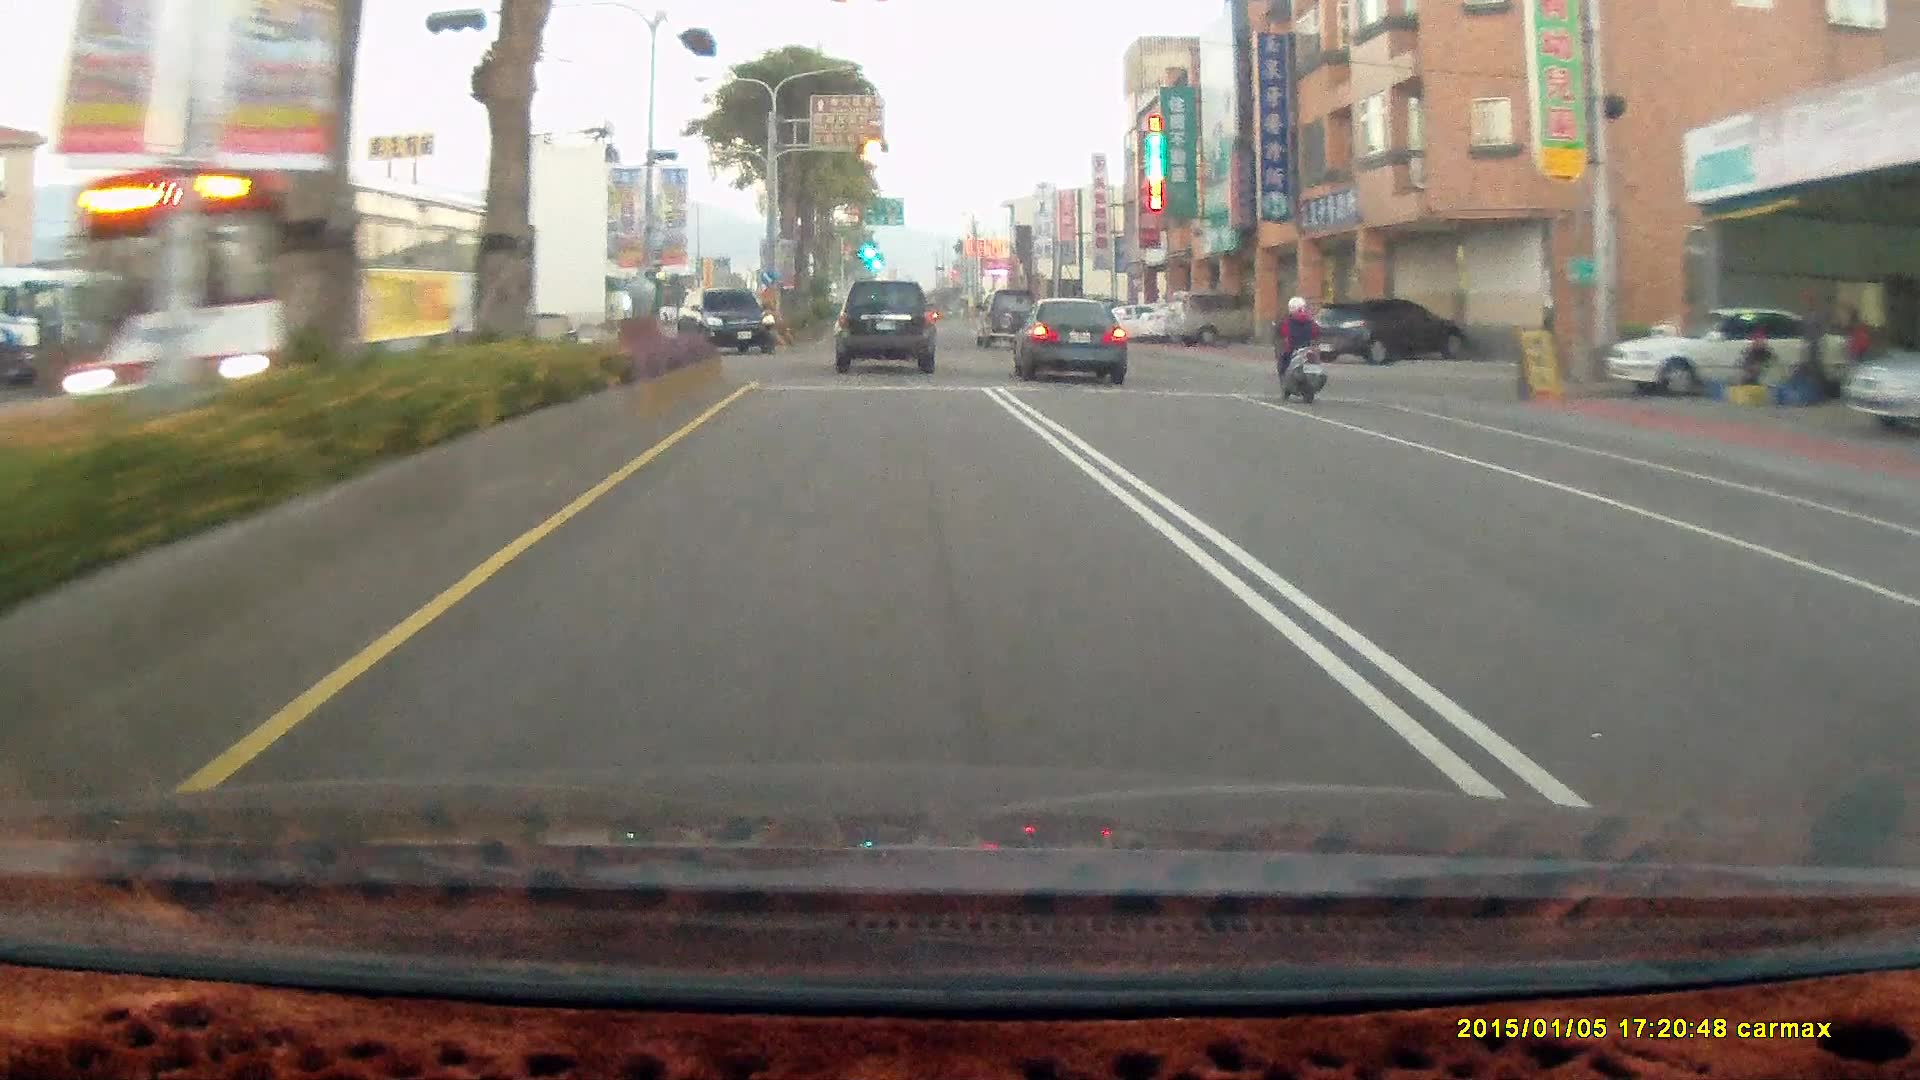pedestrian: (1801, 292, 1831, 406), (1844, 307, 1877, 410), (1742, 331, 1774, 402)
rider: (1257, 284, 1341, 416), (1268, 296, 1326, 405)
vehicle: (55, 163, 535, 432), (98, 154, 521, 411), (1606, 306, 1857, 398), (1602, 306, 1851, 398), (1011, 296, 1132, 389), (1303, 298, 1467, 365), (1302, 300, 1465, 366), (1007, 296, 1127, 383), (835, 281, 941, 375), (833, 279, 933, 373), (1839, 335, 1920, 436), (1838, 335, 1919, 435), (678, 287, 776, 360), (678, 287, 776, 354), (1166, 292, 1275, 345), (1164, 292, 1260, 352), (974, 286, 1040, 347)
